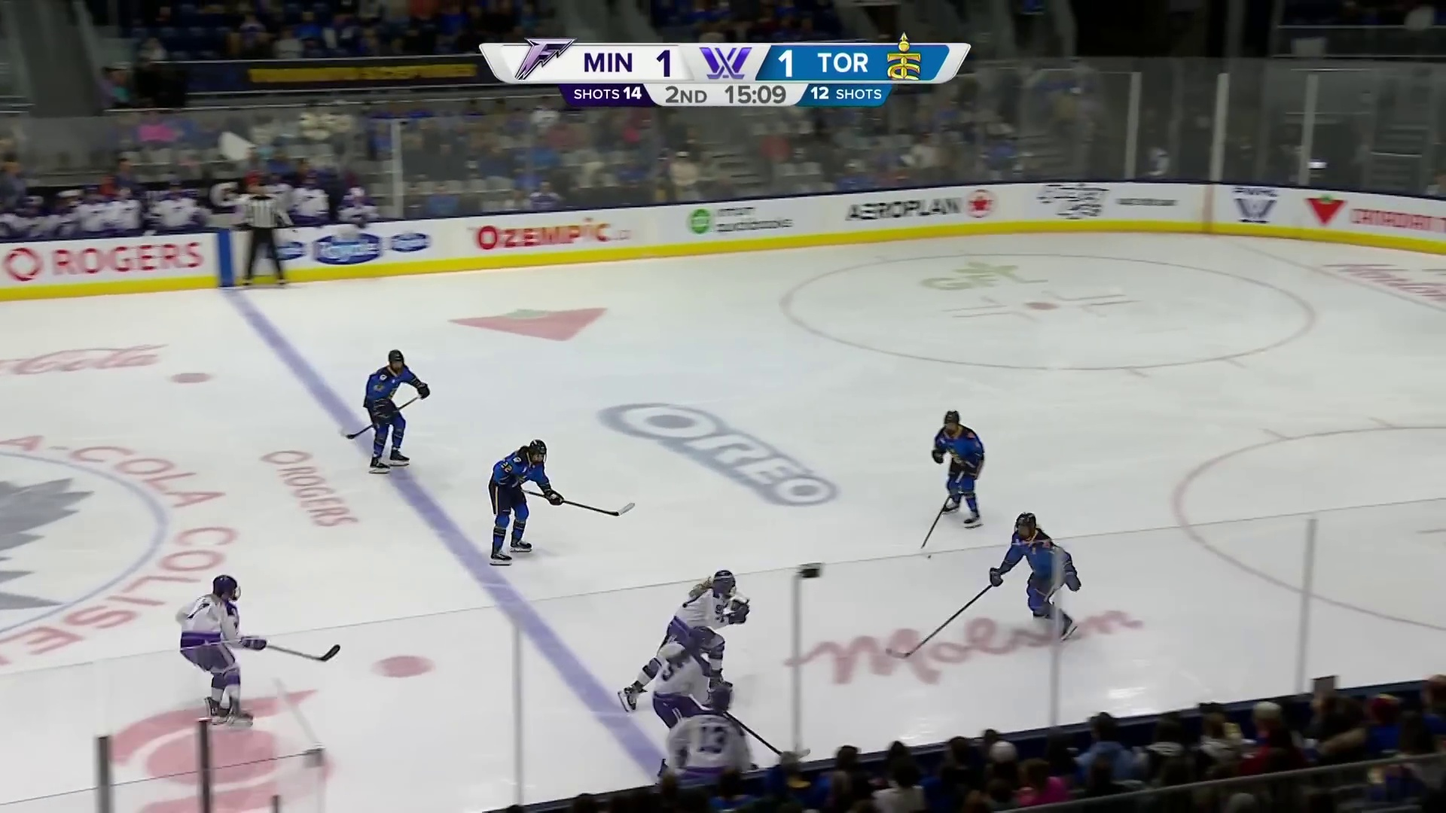player: (618, 568, 749, 709), (177, 571, 269, 735), (987, 511, 1081, 641), (486, 439, 565, 565), (362, 348, 431, 474), (667, 685, 753, 775), (932, 410, 985, 532), (652, 629, 717, 728)
